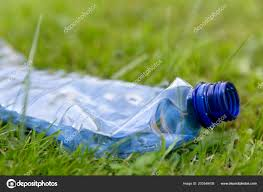plastic_bottle: (1, 42, 239, 162)
